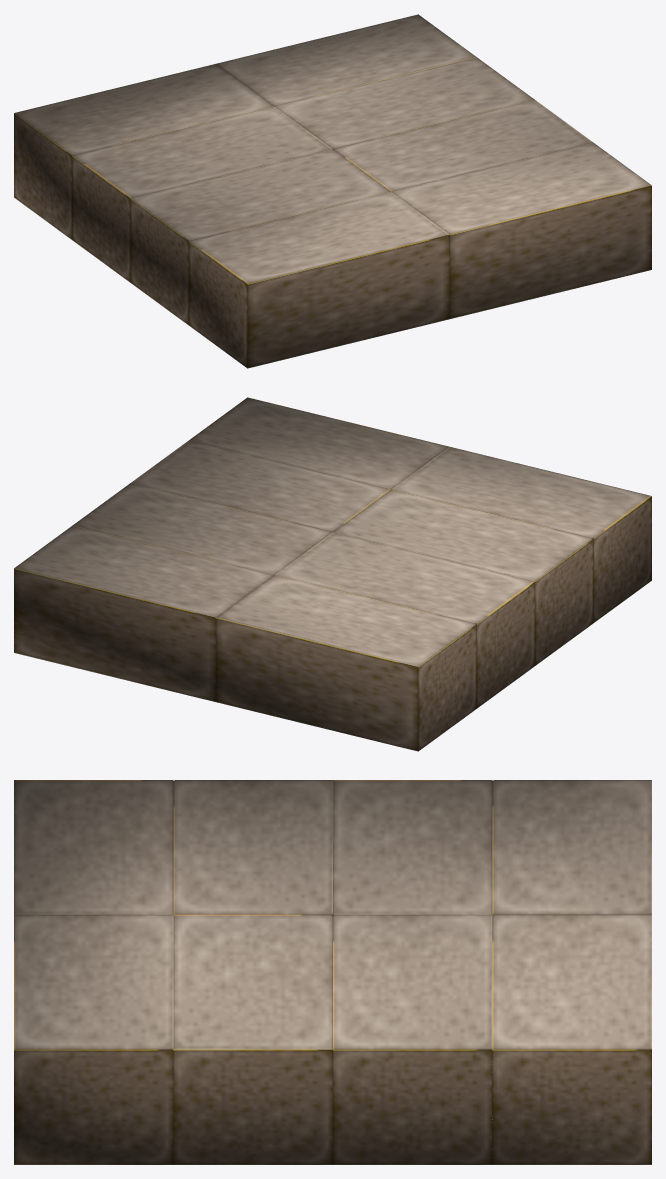
The picture shows the model from 3 angles, top to bottom: view 1: azimuth 30°, elevation 25°; view 2: azimuth 150°, elevation 25°; view 3: azimuth 270°, elevation 25°; orthographic projection. The views are drawn at different scales.
Parts seen in each view (by area): view 1: T1L6M009_18; view 2: T1L6M009_18; view 3: T1L6M009_18.
Boxes of the visible parts, x1=… form: T1L6M009_18: x1=14, y1=14, x2=651, y2=368; T1L6M009_18: x1=14, y1=397, x2=651, y2=751; T1L6M009_18: x1=14, y1=780, x2=651, y2=1164.
Bounding box in the file's own units: 2 × 0.3994 × 2.
